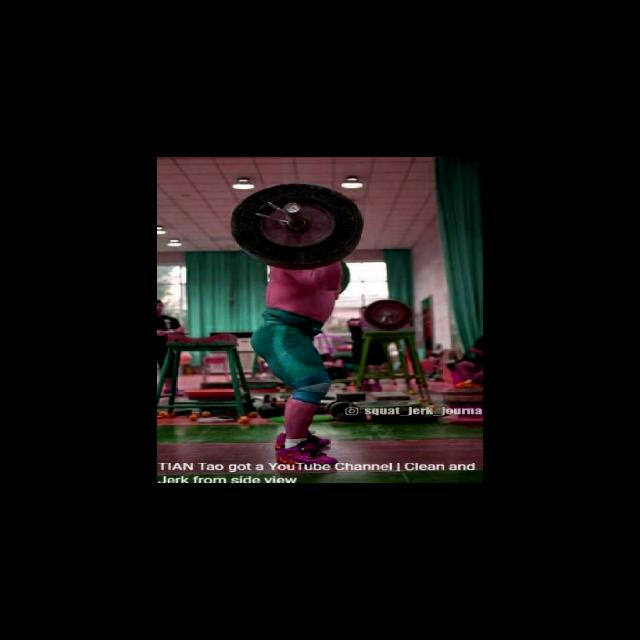barbell: (227, 179, 364, 271)
